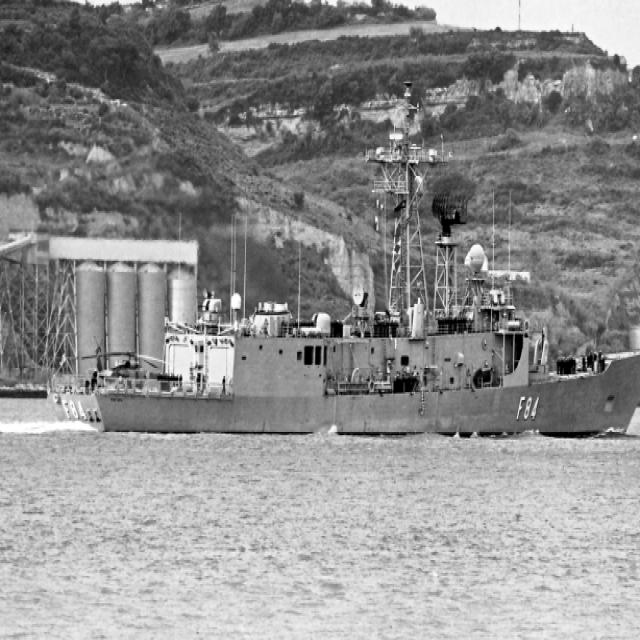Fragata: (48, 72, 640, 445)
